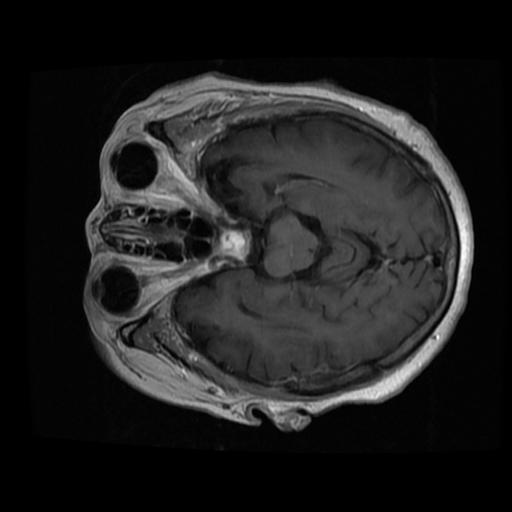pituitary tumour: (215, 228, 249, 259)
